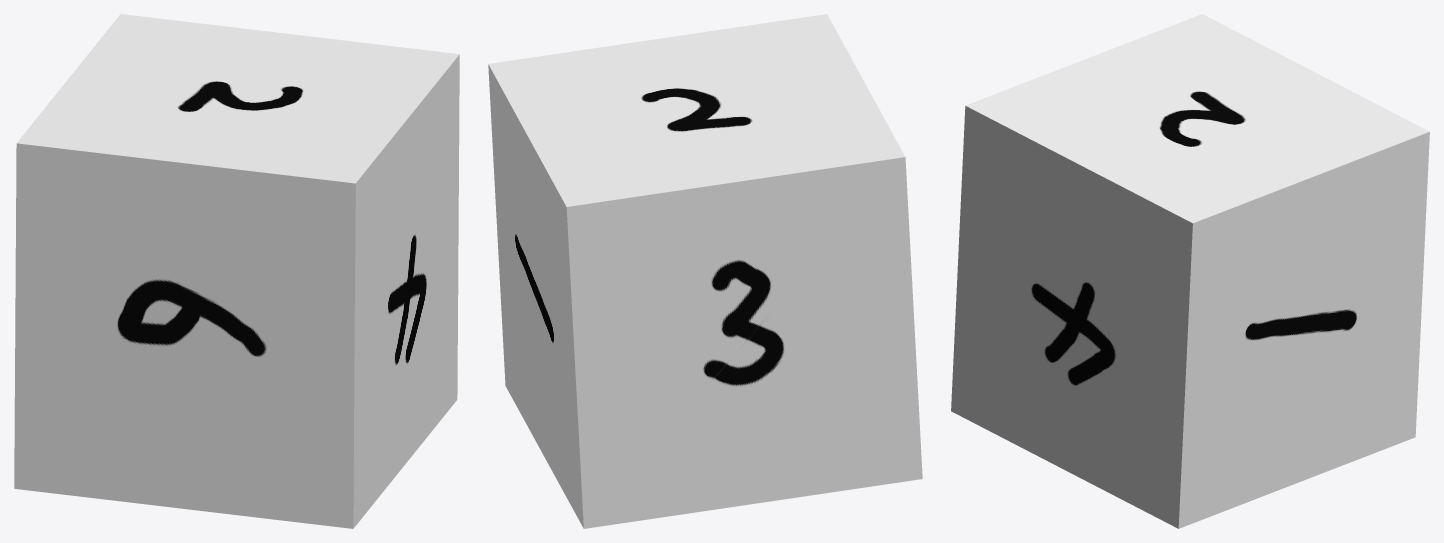
3 renders of one model, left to right at view 1: azimuth 30°, elevation 25°; view 2: azimuth 150°, elevation 25°; view 3: azimuth 270°, elevation 25°, orthographic. The views are drawn at different scales.
Parts seen in each view (by area): view 1: node_id6; view 2: node_id6; view 3: node_id6.
Boxes of the visible parts, x1,y1,x2,y2 form: node_id6: (14,14,459,528); node_id6: (488,14,922,528); node_id6: (951,14,1429,528).
Size of the model in its own units: 0.5046 by 0.3841 by 0.5079.
1 material, 1 textured.
